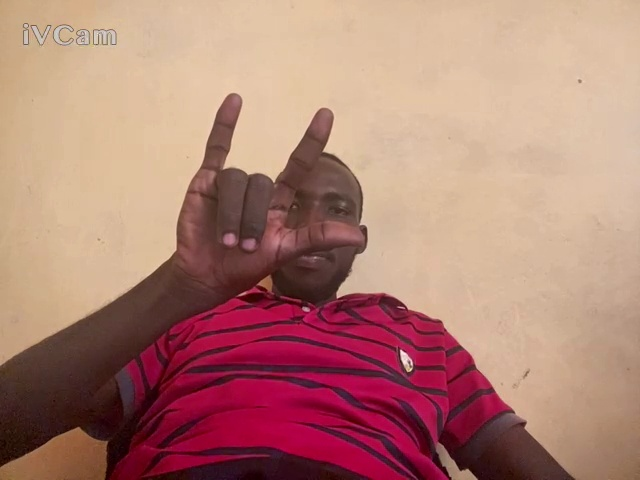je t'aime: (164, 88, 366, 309)
